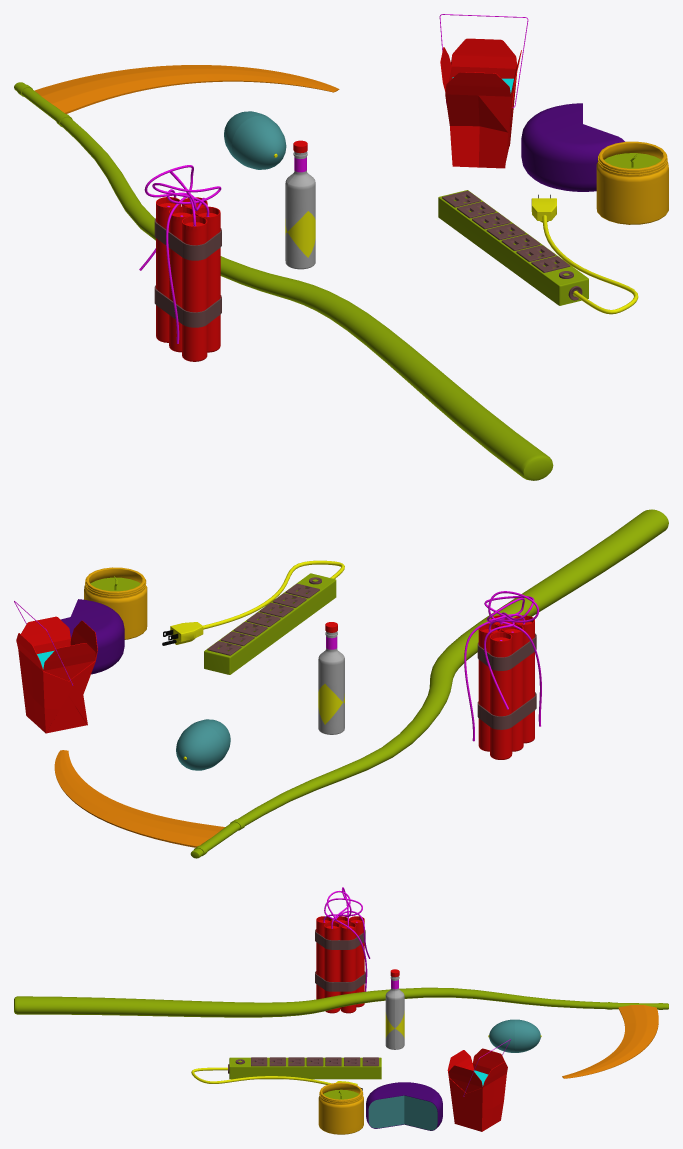
File: PuzzleItems.fbx
3 views of the same model, one above another, from view 1: azimuth 30°, elevation 25°; view 2: azimuth 150°, elevation 25°; view 3: azimuth 270°, elevation 25° (orthographic). The views are drawn at different scales.
Visible parts, largest first — view 1: pCube171, pCylinder30, polySurface179_polySurface181_polySurface185, Box015, polySurface181, pCylinder40, pCylinder35, pSphere5; view 2: pCube171, pCylinder30, polySurface179_polySurface181_polySurface185, Box015, pCylinder40, pCylinder35, polySurface181, pSphere5; view 3: pCube171, pCylinder30, polySurface179_polySurface181_polySurface185, Box015, polySurface181, pCylinder40, pSphere5, pCylinder35.
Boxes of the visible parts, bbox=[...] form: pCube171: bbox=[14, 65, 553, 480]; pCylinder30: bbox=[139, 165, 221, 361]; polySurface179_polySurface181_polySurface185: bbox=[439, 14, 528, 168]; Box015: bbox=[438, 190, 638, 314]; polySurface181: bbox=[521, 103, 624, 191]; pCylinder40: bbox=[596, 141, 668, 224]; pCylinder35: bbox=[285, 140, 315, 269]; pSphere5: bbox=[224, 111, 286, 169]; pCube171: bbox=[54, 509, 668, 858]; pCylinder30: bbox=[464, 591, 541, 759]; polySurface179_polySurface181_polySurface185: bbox=[14, 601, 97, 733]; Box015: bbox=[162, 560, 344, 674]; pCylinder40: bbox=[84, 567, 147, 639]; pCylinder35: bbox=[318, 622, 344, 734]; polySurface181: bbox=[60, 599, 124, 674]; pSphere5: bbox=[176, 719, 230, 770]; pCube171: bbox=[14, 987, 668, 1078]; pCylinder30: bbox=[315, 887, 370, 1013]; polySurface179_polySurface181_polySurface185: bbox=[447, 1039, 510, 1131]; Box015: bbox=[191, 1057, 381, 1090]; polySurface181: bbox=[366, 1082, 442, 1130]; pCylinder40: bbox=[318, 1082, 363, 1134]; pSphere5: bbox=[488, 1019, 541, 1052]; pCylinder35: bbox=[385, 969, 404, 1049].
Size of the model in its own units: 268 by 88.95 by 470.
